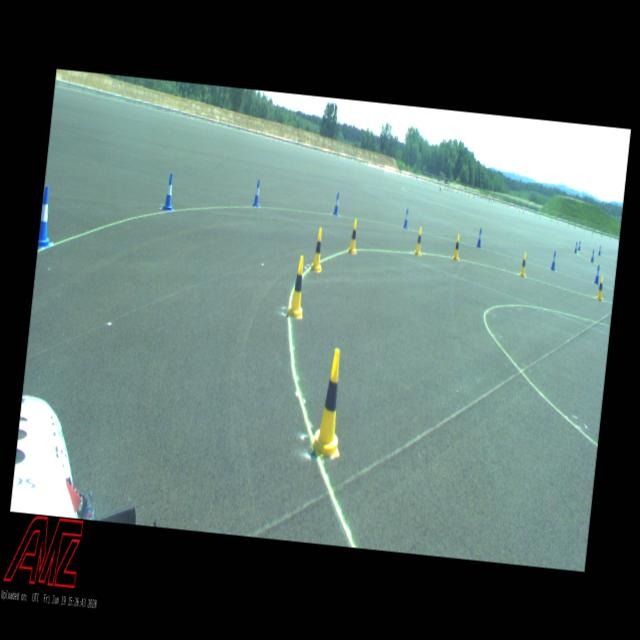blue_cone: (38, 186, 56, 248), (161, 172, 176, 210), (252, 178, 262, 206), (332, 192, 340, 214), (402, 208, 409, 228), (594, 264, 600, 284), (550, 250, 556, 270), (476, 227, 482, 247), (590, 249, 594, 262), (574, 242, 578, 252), (577, 240, 580, 250), (598, 246, 601, 255)
yellow_cone: (310, 347, 350, 458), (288, 254, 308, 319), (308, 227, 326, 272), (347, 218, 360, 254), (414, 226, 424, 255), (452, 233, 462, 260), (595, 275, 605, 301), (518, 252, 528, 278)
